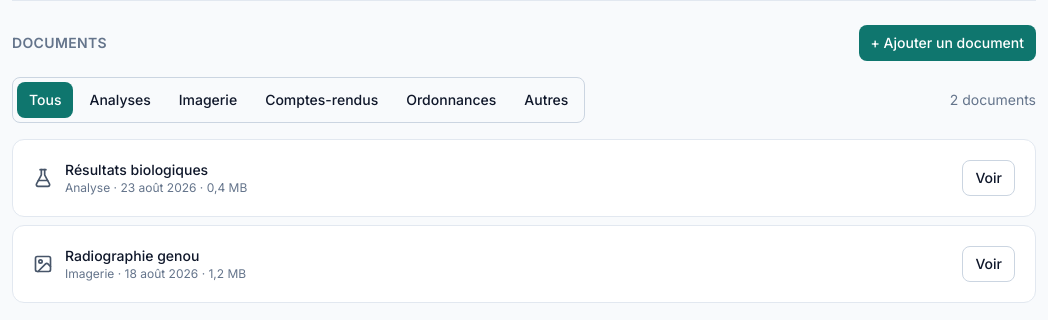
Test case: DocumentsSection › filters by category (4)
Click the button "Imagerie". click: (208,100)
box: left=167, top=82, right=249, bottom=118
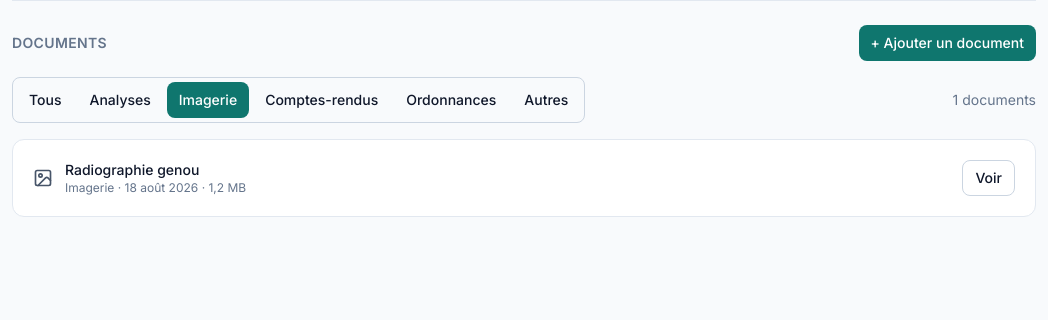
Expected: the text "Radiographie genou" is shown, left=65, top=161, right=199, bottom=178
Result: the text "Résultats biologiques" is gone
